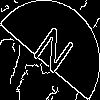N: (25, 25, 77, 83)
